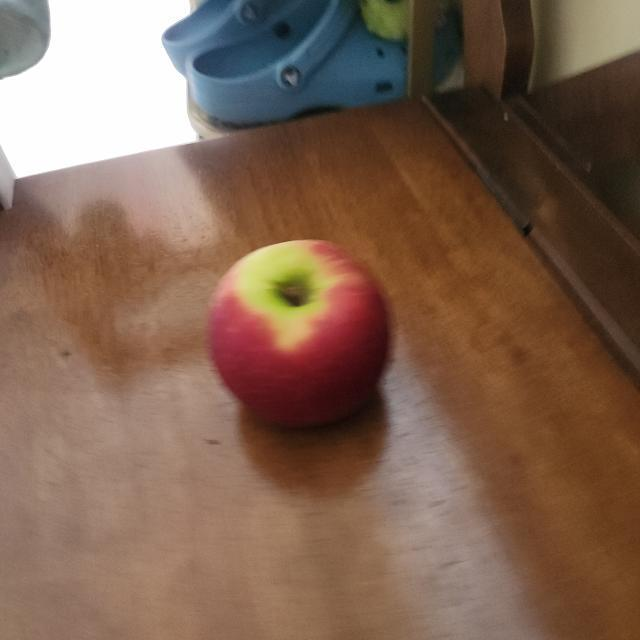apple: (204, 233, 398, 447)
